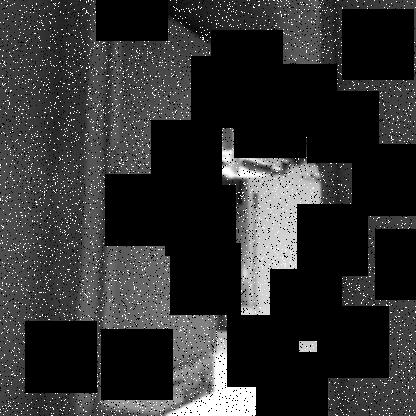Porte: (58, 1, 345, 415)
